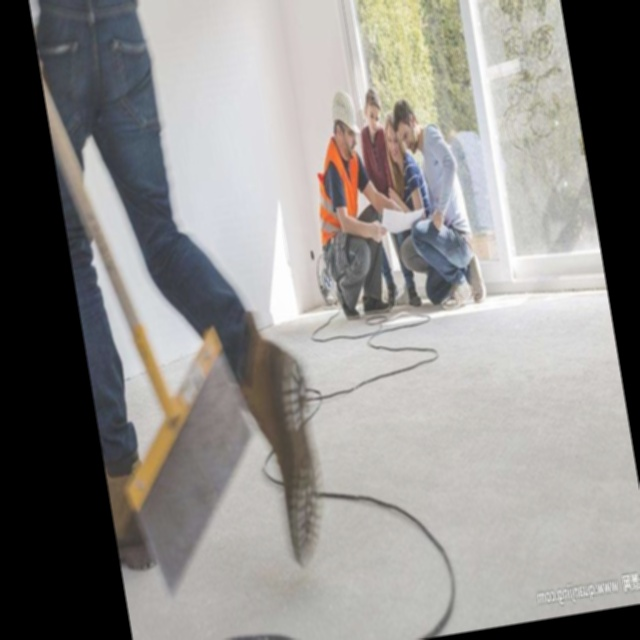Con_Chaleco: (304, 135, 373, 246)
Sin_Casco_Mascarrilla: (392, 97, 420, 152)
